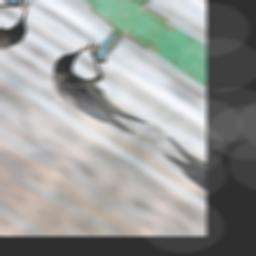Crow: (37, 35, 169, 146)
